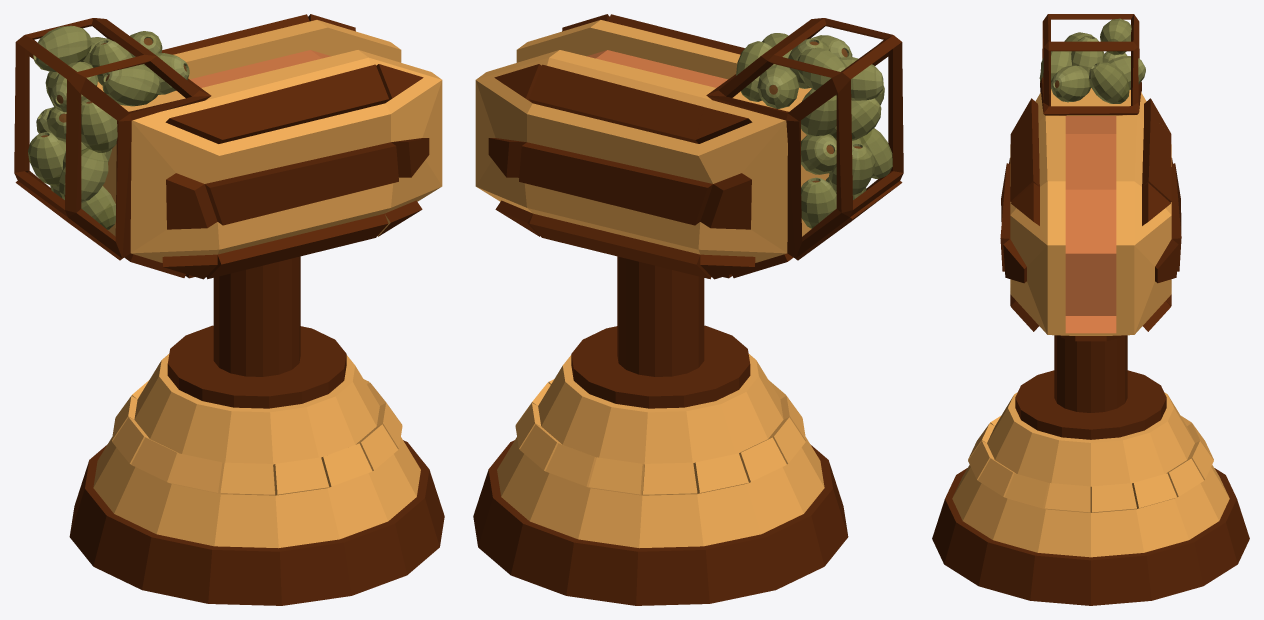
File: ZeytinAtarSv2Model.fbx
The picture shows the model from 3 angles, left to right: view 1: azimuth 30°, elevation 25°; view 2: azimuth 150°, elevation 25°; view 3: azimuth 270°, elevation 25°; orthographic projection. The views are drawn at different scales.
Visible parts, largest first — view 1: Cube.008, parentli kurdanatar.014; view 2: Cube.008, parentli kurdanatar.014; view 3: parentli kurdanatar.014, Cube.008.
Boxes of the visible parts, <box> form: Cube.008: <box>14,14,442,279</box>; parentli kurdanatar.014: <box>69,256,444,605</box>; Cube.008: <box>475,14,903,279</box>; parentli kurdanatar.014: <box>473,256,848,605</box>; parentli kurdanatar.014: <box>932,335,1249,605</box>; Cube.008: <box>1000,14,1181,341</box>.
Bounding box in the file's own units: 234 × 309 × 200.
Materials: 3 (3 with a texture image).
